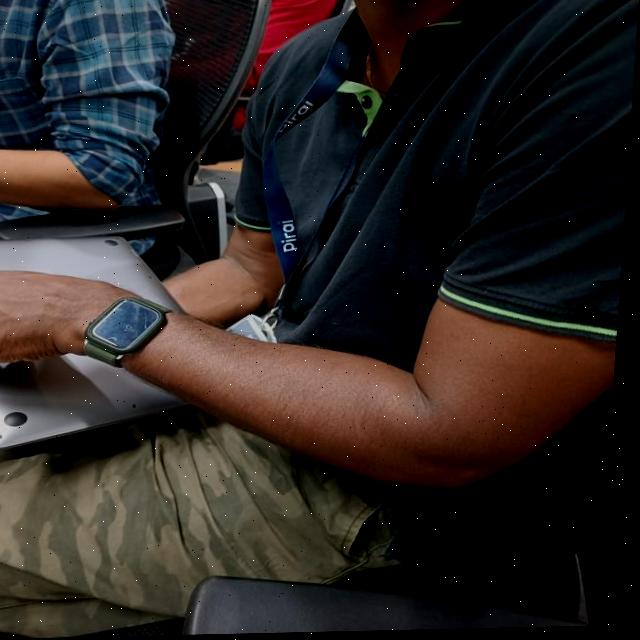id_card: (235, 29, 347, 346)
